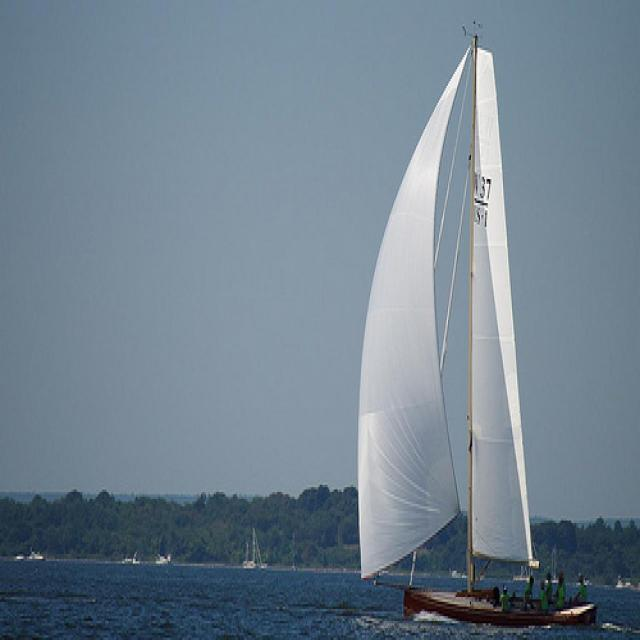Ship: (359, 40, 603, 630), (245, 525, 271, 572)
